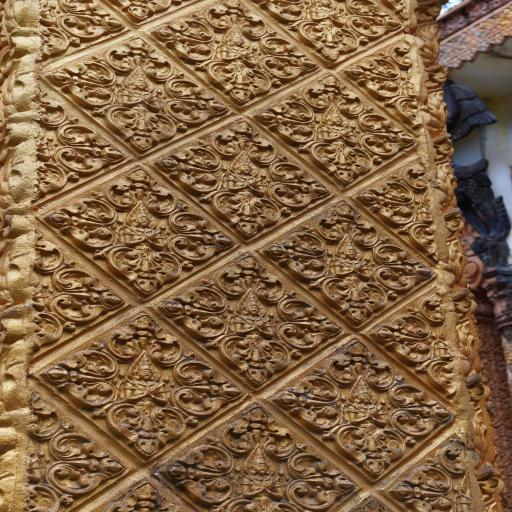la: (41, 425, 122, 493), (162, 435, 236, 504), (164, 353, 246, 415), (40, 344, 114, 411), (98, 395, 186, 451), (321, 420, 410, 475), (46, 266, 132, 320), (215, 330, 299, 385), (218, 402, 298, 458), (382, 376, 456, 436), (42, 188, 118, 246), (53, 115, 129, 172), (102, 162, 184, 214), (325, 334, 403, 388), (210, 248, 289, 301), (99, 240, 181, 290), (287, 445, 348, 512), (101, 312, 182, 362), (385, 459, 458, 512), (164, 203, 229, 260), (162, 75, 228, 131), (275, 367, 332, 431), (316, 271, 387, 322), (164, 276, 223, 337), (262, 229, 329, 282), (271, 296, 342, 346), (308, 196, 377, 246), (98, 101, 168, 149), (369, 239, 429, 295), (108, 32, 177, 79), (254, 95, 316, 145), (156, 144, 218, 194), (51, 54, 113, 103), (206, 192, 281, 232), (148, 16, 212, 62), (210, 118, 276, 162), (374, 306, 427, 360), (292, 16, 353, 62), (272, 157, 324, 210), (306, 140, 371, 182), (254, 31, 312, 77), (56, 1, 123, 40), (366, 177, 419, 225), (297, 69, 357, 111), (209, 58, 266, 102), (354, 110, 408, 156), (343, 54, 396, 97), (201, 0, 263, 35), (348, 0, 397, 39), (34, 88, 66, 124), (389, 92, 420, 123)
than: (108, 345, 179, 411), (235, 442, 292, 509), (334, 376, 394, 434), (220, 286, 282, 340), (308, 100, 373, 148), (109, 197, 165, 250), (212, 150, 272, 197), (98, 67, 163, 108), (321, 234, 377, 278), (209, 22, 259, 64), (301, 0, 343, 25)
